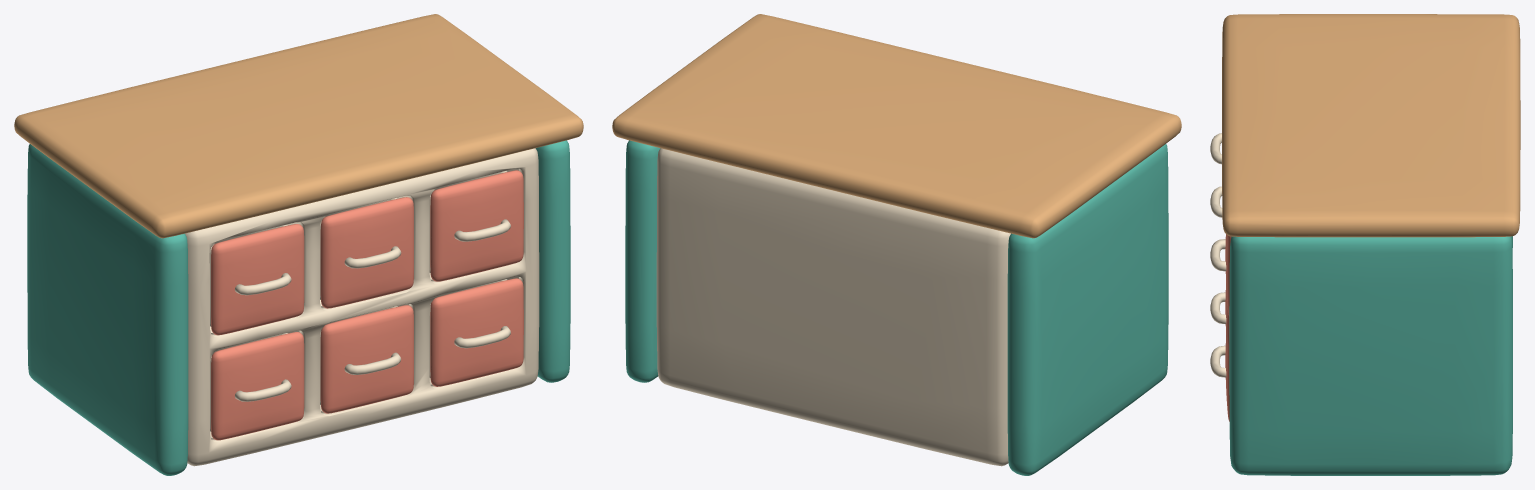
The model's file is island_b.glb.
The picture shows the model from 3 angles, left to right: view 1: azimuth 30°, elevation 25°; view 2: azimuth 150°, elevation 25°; view 3: azimuth 270°, elevation 25°; orthographic projection.
Parts seen in each view (by area): view 1: body, drawer_11, drawer_13, drawer_12, drawer_21, drawer_23, drawer_22; view 2: body; view 3: body, drawer_23, drawer_13, drawer_22.
Part boxes in pixels (<box>): body: <box>14,14,583,475</box>; drawer_11: <box>209,224,304,335</box>; drawer_13: <box>429,170,523,281</box>; drawer_12: <box>320,197,413,308</box>; drawer_21: <box>210,332,304,440</box>; drawer_23: <box>429,278,523,386</box>; drawer_22: <box>320,305,413,413</box>; body: <box>612,14,1181,475</box>; body: <box>1222,14,1520,475</box>; drawer_23: <box>1210,310,1229,421</box>; drawer_13: <box>1210,234,1231,315</box>; drawer_22: <box>1210,283,1227,334</box>.
Size of the model in its own units: 1.54 by 0.9249 by 0.9659.
